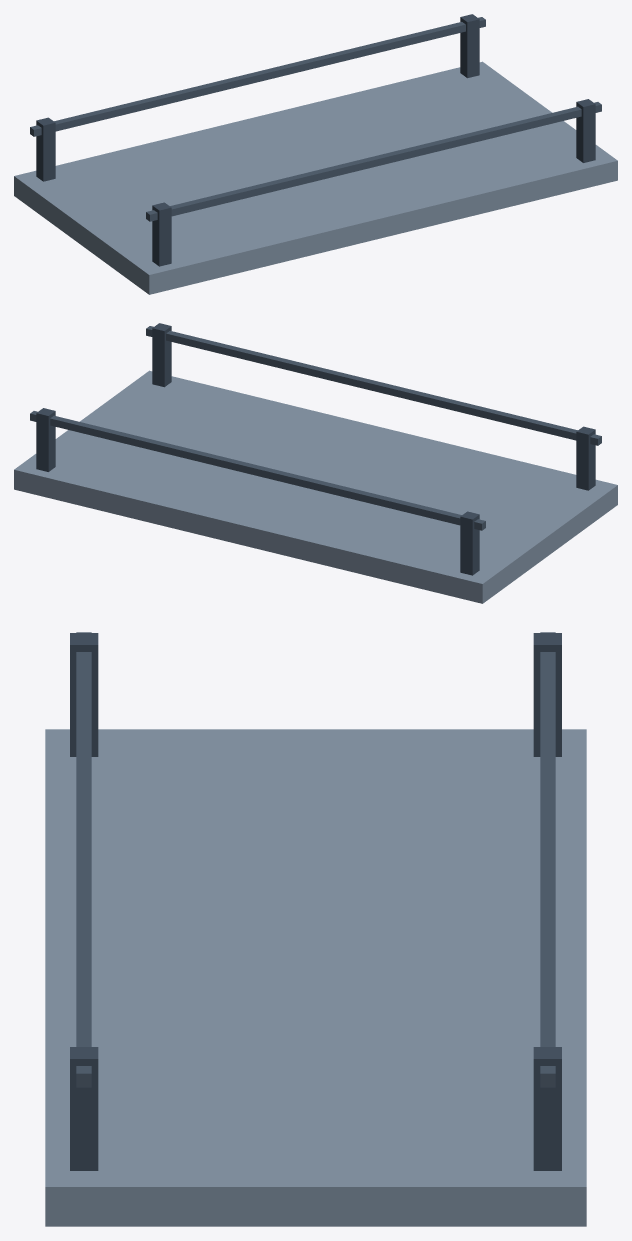
The model's file is metaverse-hub-dock-high.gltf.
The picture shows the model from 3 angles, top to bottom: view 1: azimuth 30°, elevation 25°; view 2: azimuth 150°, elevation 25°; view 3: azimuth 270°, elevation 25°; orthographic projection. The views are drawn at different scales.
Visible parts, largest first — view 1: metaverse_hub_dock_high; view 2: metaverse_hub_dock_high; view 3: metaverse_hub_dock_high.
Part boxes in pixels (box(x1,y1,x2,y2)): metaverse_hub_dock_high: box(14, 14, 617, 294); metaverse_hub_dock_high: box(14, 323, 617, 603); metaverse_hub_dock_high: box(45, 632, 586, 1226).
Bounding box in the file's own units: 8.4 × 1.3 × 4.2.
